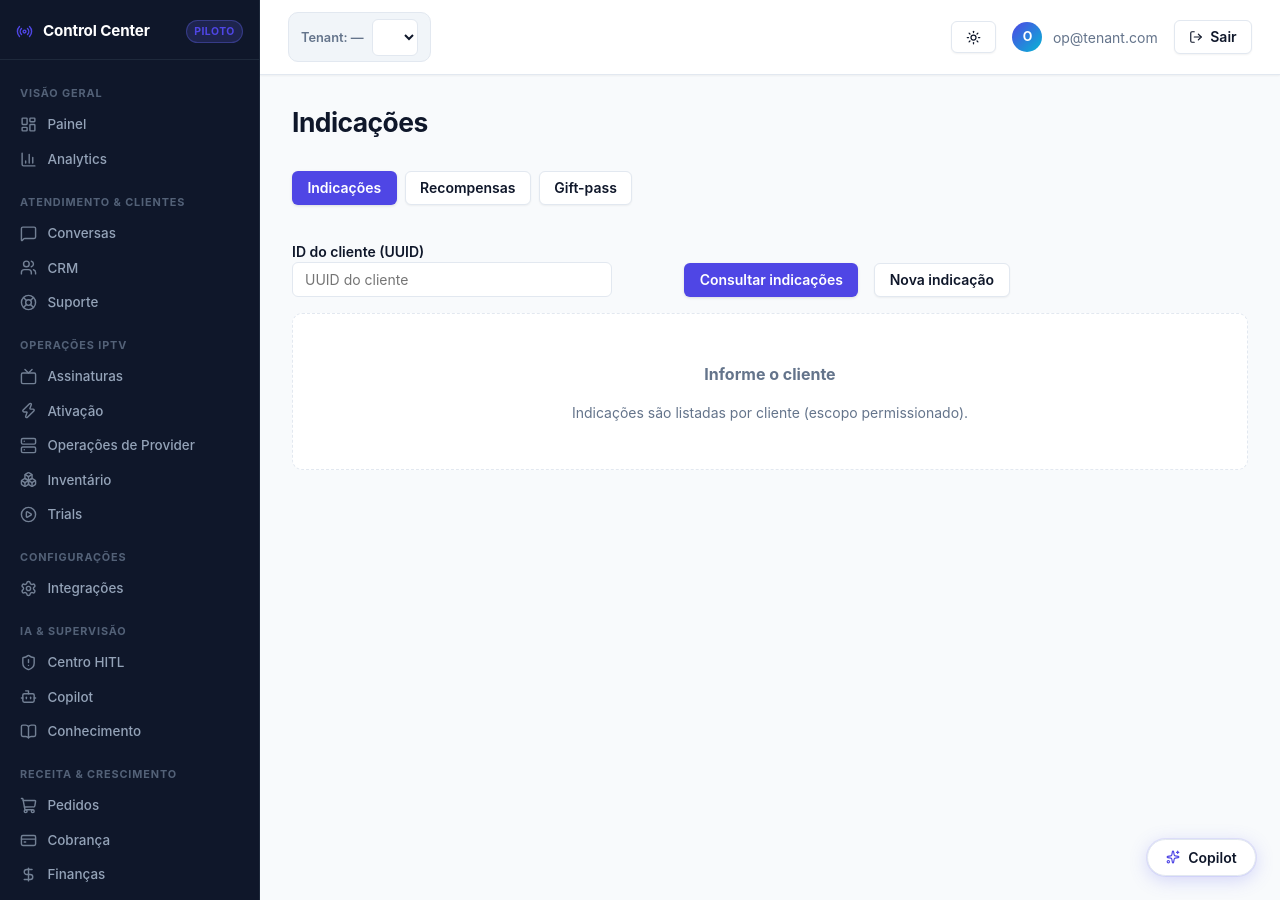
Test case: ReferralsPage › consulta indicações de cliente e realiza qualificação sob crm.lead.write
The width and height of the screenshot is (1280, 900).
Expected: the heading "Indicações" is shown, [292, 106, 428, 138]
Can use manual input or select assist
Type "c-100" into the field with placeholder "UUID do cliente". click: (452, 279)
box: [292, 262, 612, 297]
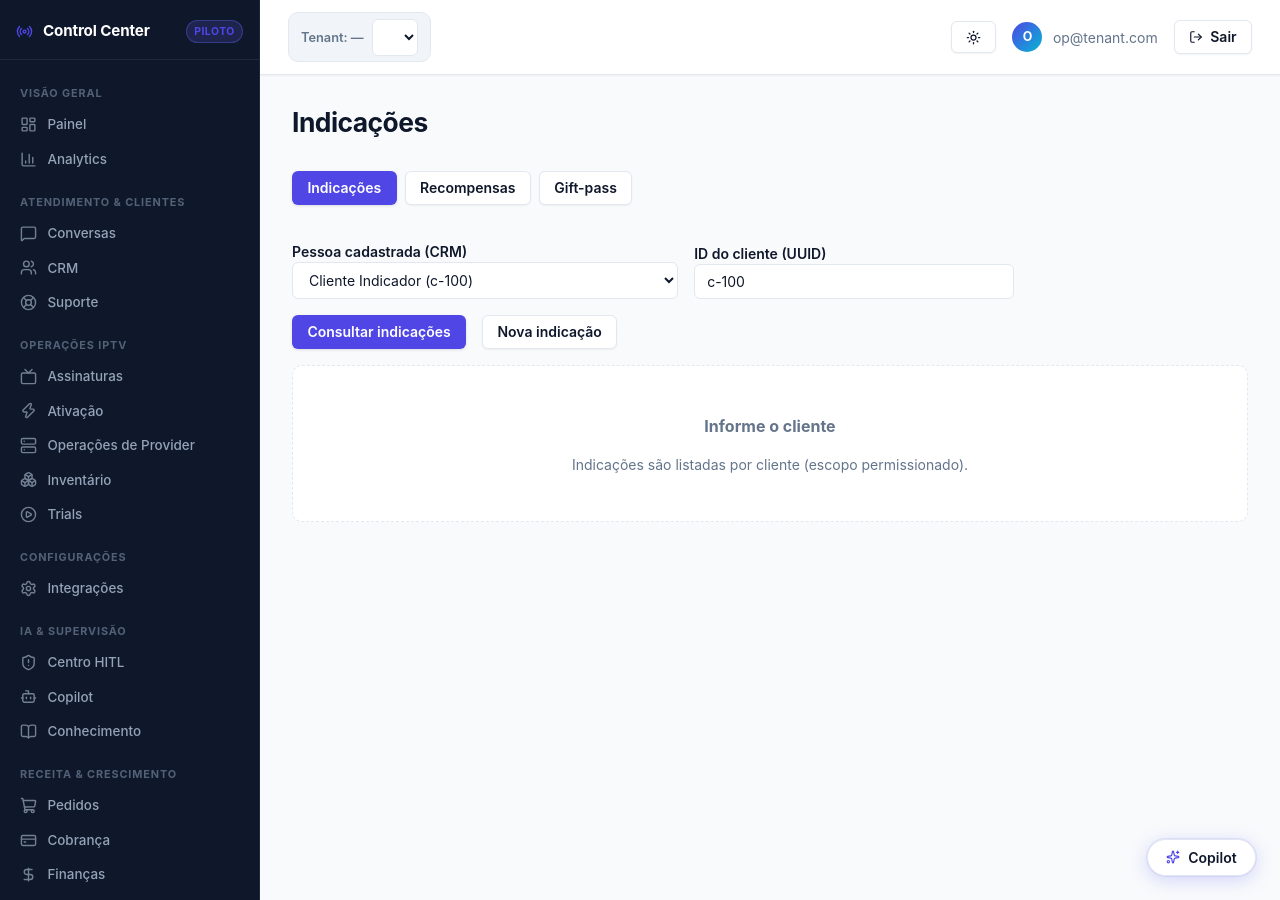
Click the button "Consultar indicações". click: (379, 332)
box: [292, 315, 466, 349]
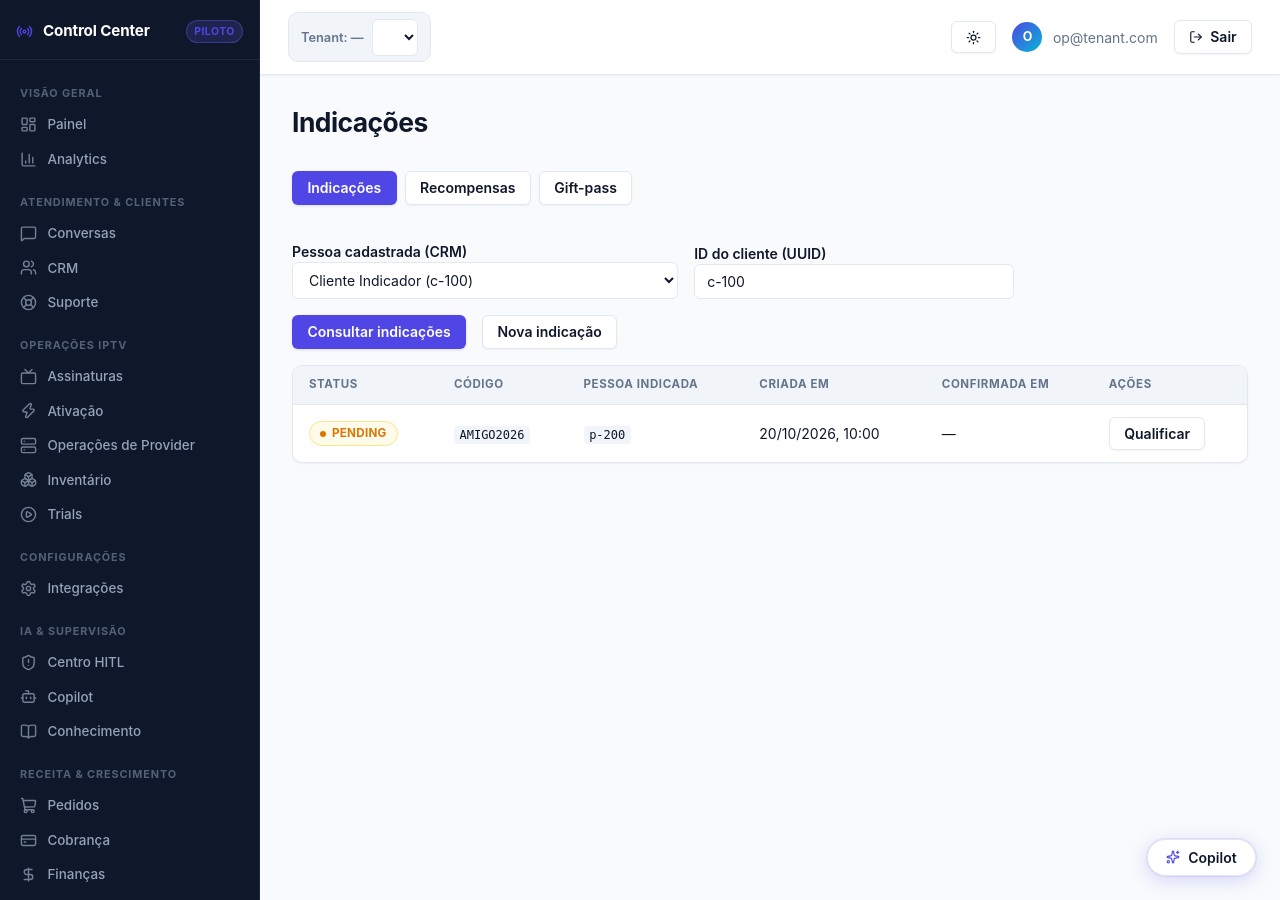
Expected: the text "AMIGO2026" is shown, [454, 426, 530, 444]
Expected: the text "PENDING" is shown, [309, 421, 398, 446]
Qualify action
Click the button "Qualificar". click: (1157, 434)
box: [1109, 417, 1205, 450]
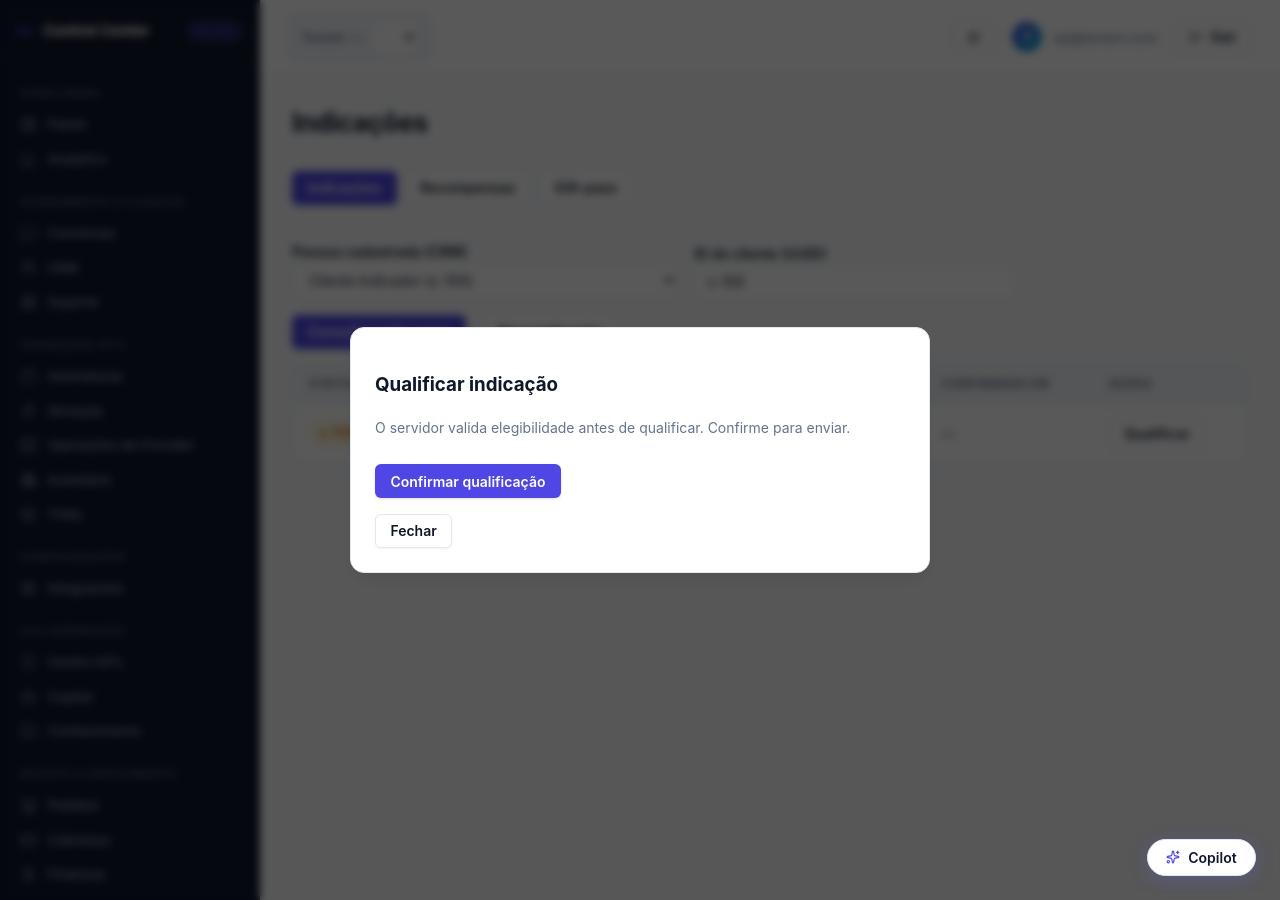
Click the button "Confirmar qualificação". click: (468, 481)
box: [375, 464, 561, 498]
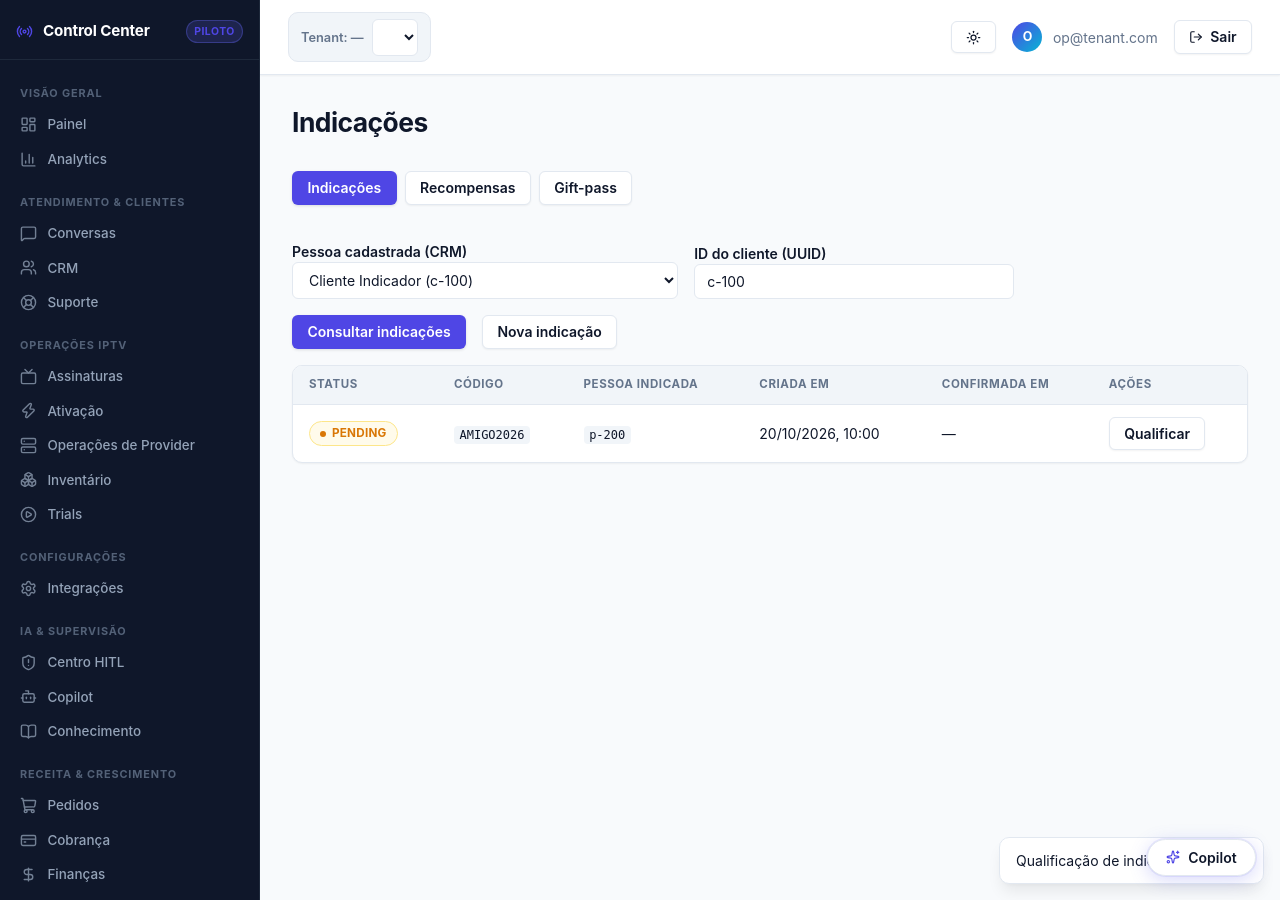
Expected: the text "Qualificação de indicação enviada." is shown, [999, 837, 1264, 884]
